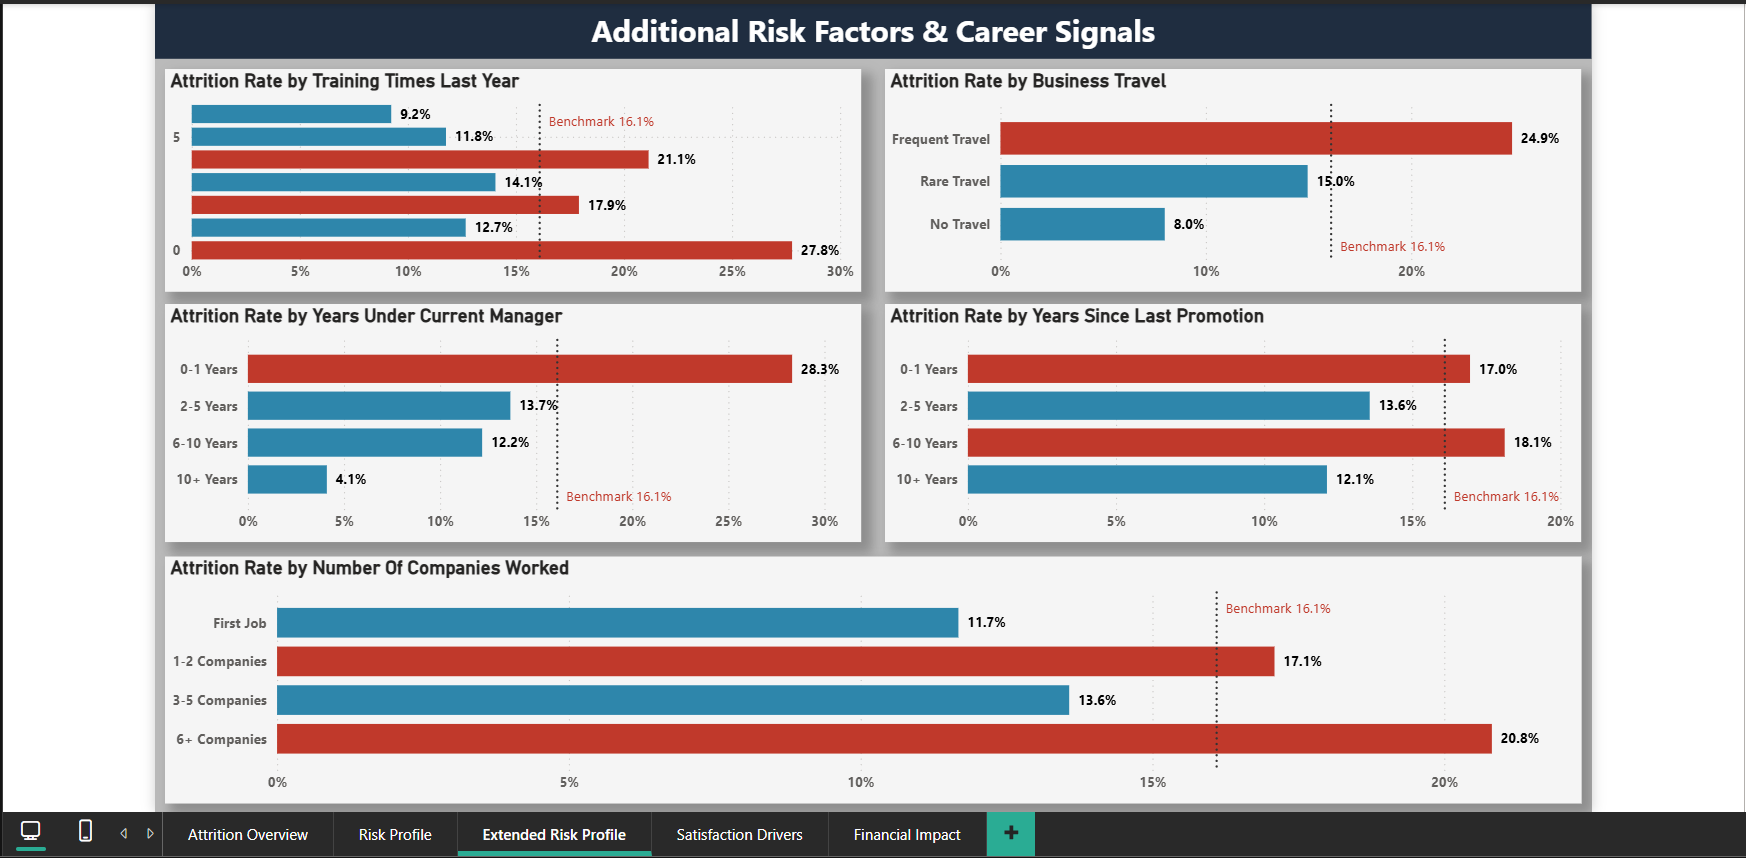

This screenshot's page, from the dashboard's own definition file:
{"tool":"powerbi","page":{"name":"Extended Risk Profile","canvas":[1280,720],"ordinal":2},"visuals":[{"type":"textbox","box":[0,0,1279,49],"z":0},{"type":"barChart","title":"Attrition Rate by Training Times Last Year","fields":{"Y":["HR Measures.Attrition Rate %"],"Category":["Cleaned_Data.TrainingTimesLastYear"]},"box":[8.6,57.7,619.6,198.8],"z":1000},{"type":"barChart","title":"Attrition Rate by Business Travel","fields":{"Y":["HR Measures.Attrition Rate %"],"Category":["Cleaned_Data.BusinessTravel_Label"]},"box":[650.3,57.7,619.6,198.8],"z":2000},{"type":"barChart","title":"Attrition Rate by Years Under Current Manager","fields":{"Y":["HR Measures.Attrition Rate %"],"Category":["Cleaned_Data.YearsWithCurrManager_Group"]},"box":[8.6,267.5,619.6,212.3],"z":3000},{"type":"barChart","title":"Attrition Rate by Years Since Last Promotion","fields":{"Y":["HR Measures.Attrition Rate %"],"Category":["Cleaned_Data.Promotion_Group"]},"box":[650.3,267.5,619.6,212.3],"z":4000},{"type":"barChart","title":"Attrition Rate by Number Of Companies Worked","fields":{"Y":["HR Measures.Attrition Rate %"],"Category":["Cleaned_Data.NumCompaniesWorked_Group"]},"box":[8.6,492,1261.4,219.6],"z":5000}]}

Visuals, with their boxes on the page's 1280x720 design canvas (x1, y1, x2, y2). These are canvas units, not pixel positions in the 1746x858 screenshot, which may show the page scaled, cropped or inside an application window:
textbox: box(0, 0, 1279, 49)
"Attrition Rate by Training Times Last Year" barChart: box(9, 58, 628, 256)
"Attrition Rate by Business Travel" barChart: box(650, 58, 1270, 256)
"Attrition Rate by Years Under Current Manager" barChart: box(9, 268, 628, 480)
"Attrition Rate by Years Since Last Promotion" barChart: box(650, 268, 1270, 480)
"Attrition Rate by Number Of Companies Worked" barChart: box(9, 492, 1270, 712)
